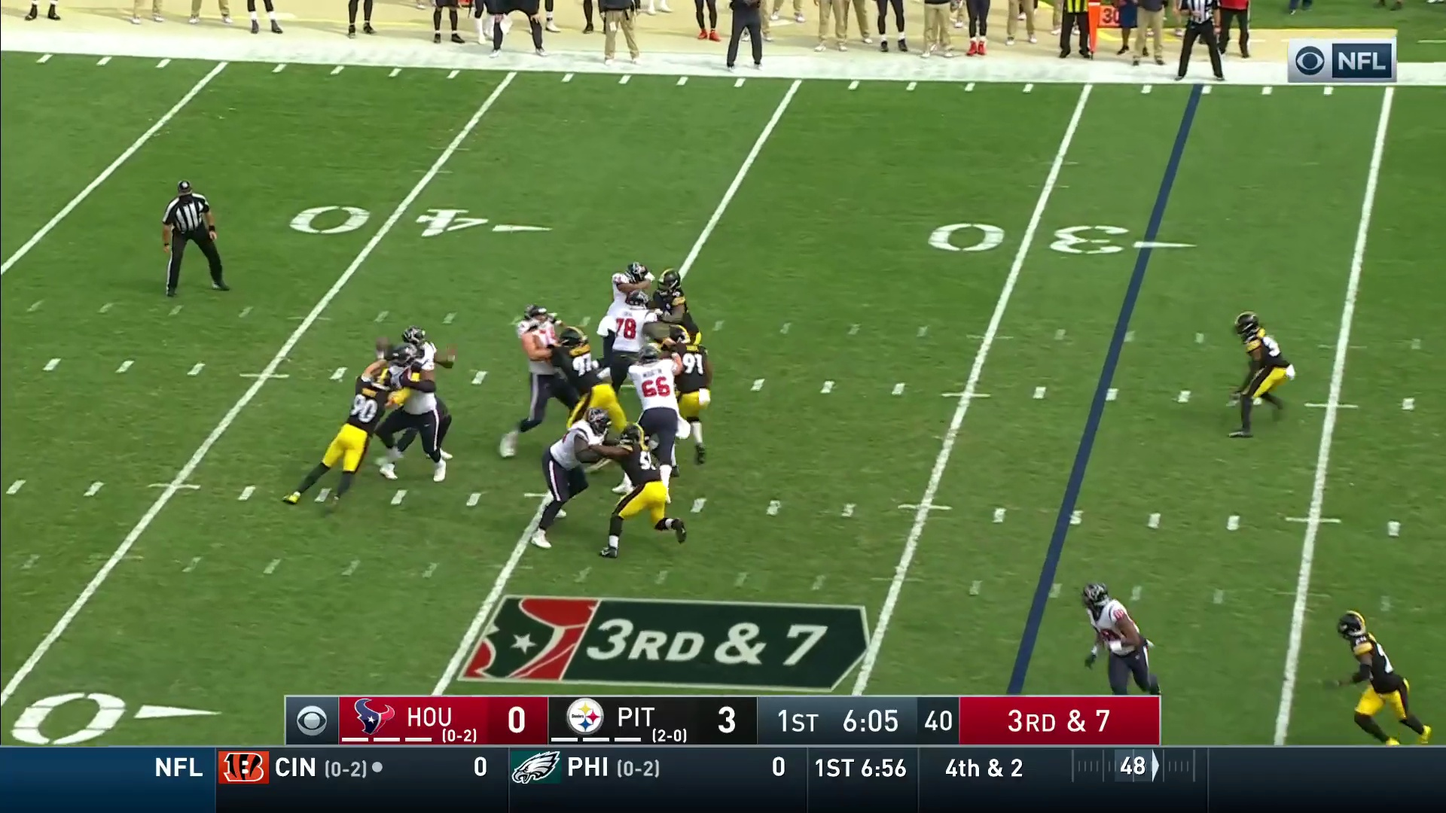Player: (379, 328, 448, 474), (628, 354, 681, 504), (518, 305, 574, 430), (598, 273, 649, 384), (668, 331, 711, 462), (653, 269, 697, 340)
